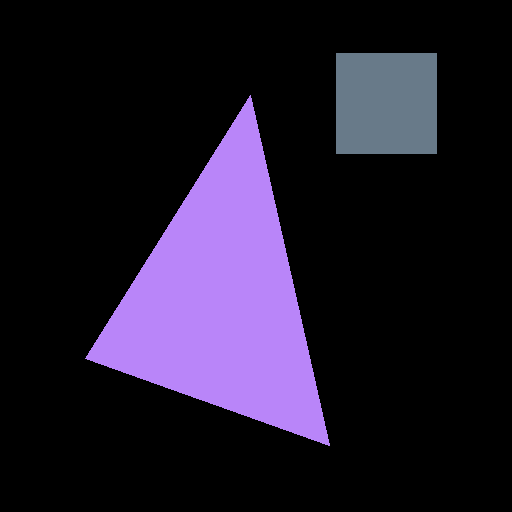square: (336, 53, 436, 153)
triangle: (85, 95, 329, 445)
